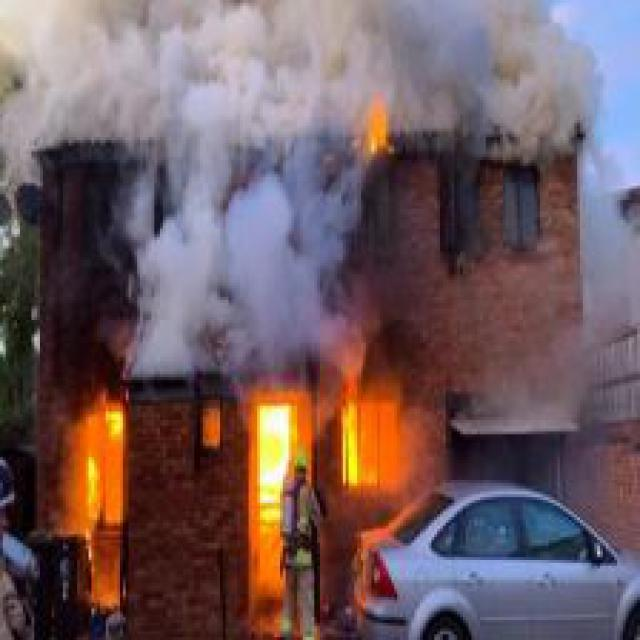fire: (68, 389, 128, 560), (252, 397, 292, 583), (357, 92, 389, 168)
